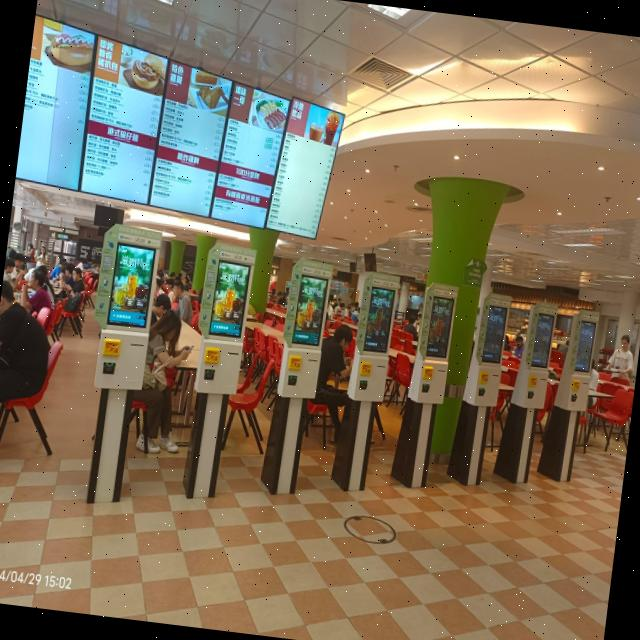orderKiosk: (89, 228, 158, 394), (193, 241, 256, 398), (277, 256, 330, 398), (350, 276, 398, 401), (410, 281, 456, 405), (469, 294, 509, 408), (519, 306, 555, 411), (561, 314, 597, 412)
